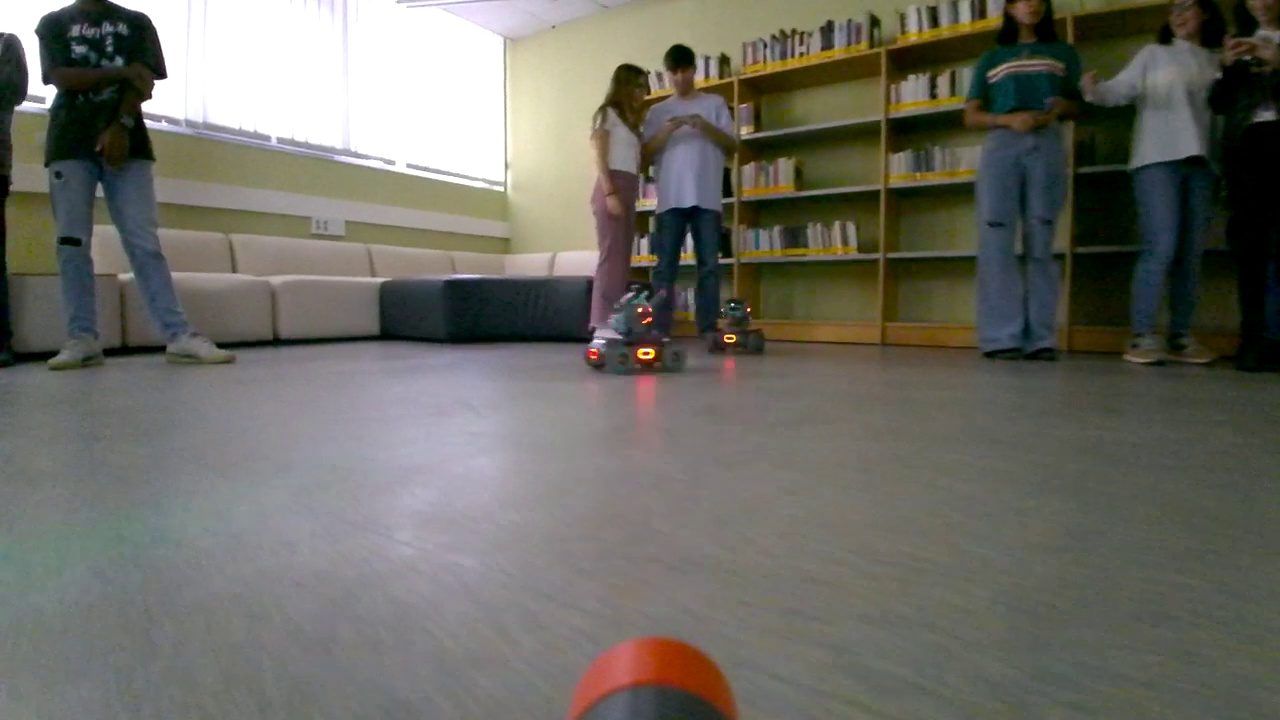robot: (584, 286, 690, 379), (706, 298, 769, 357)
